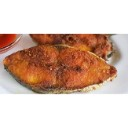seerfish: (3, 43, 118, 89)
